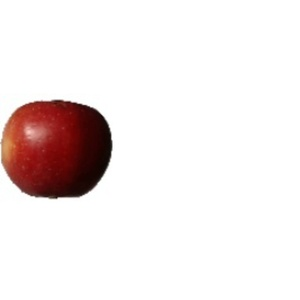maçã braeburn: (1, 95, 119, 203)
